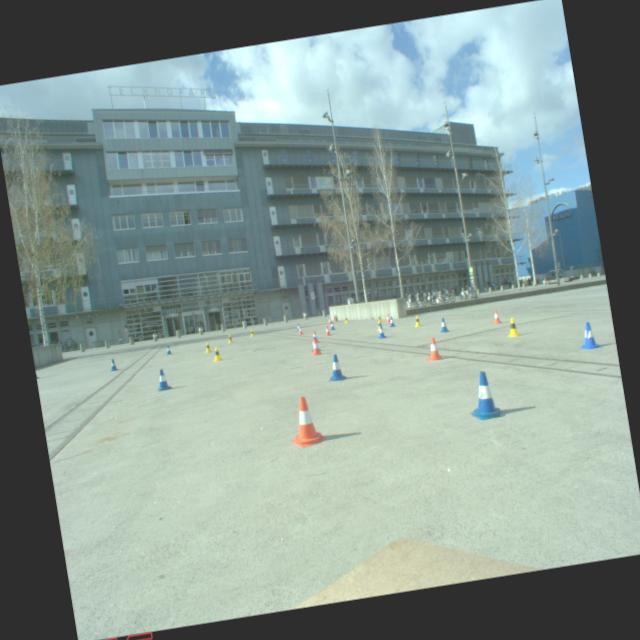blue_cone: (464, 368, 506, 422), (576, 320, 602, 350), (324, 352, 348, 383), (155, 368, 172, 391), (439, 316, 450, 332), (376, 324, 386, 339), (108, 358, 118, 372), (388, 316, 396, 327), (165, 345, 172, 355), (330, 321, 336, 330), (296, 324, 301, 332)
orange_cone: (284, 394, 328, 449), (424, 336, 444, 362), (308, 338, 322, 357), (491, 308, 503, 324), (310, 330, 320, 344), (324, 326, 332, 336), (385, 314, 391, 324), (328, 318, 332, 324)
yellow_cone: (504, 316, 521, 338), (211, 346, 223, 362), (413, 314, 422, 328), (204, 342, 213, 353), (376, 320, 384, 330), (227, 334, 234, 344), (377, 314, 382, 323), (250, 328, 255, 336), (344, 316, 348, 324)
